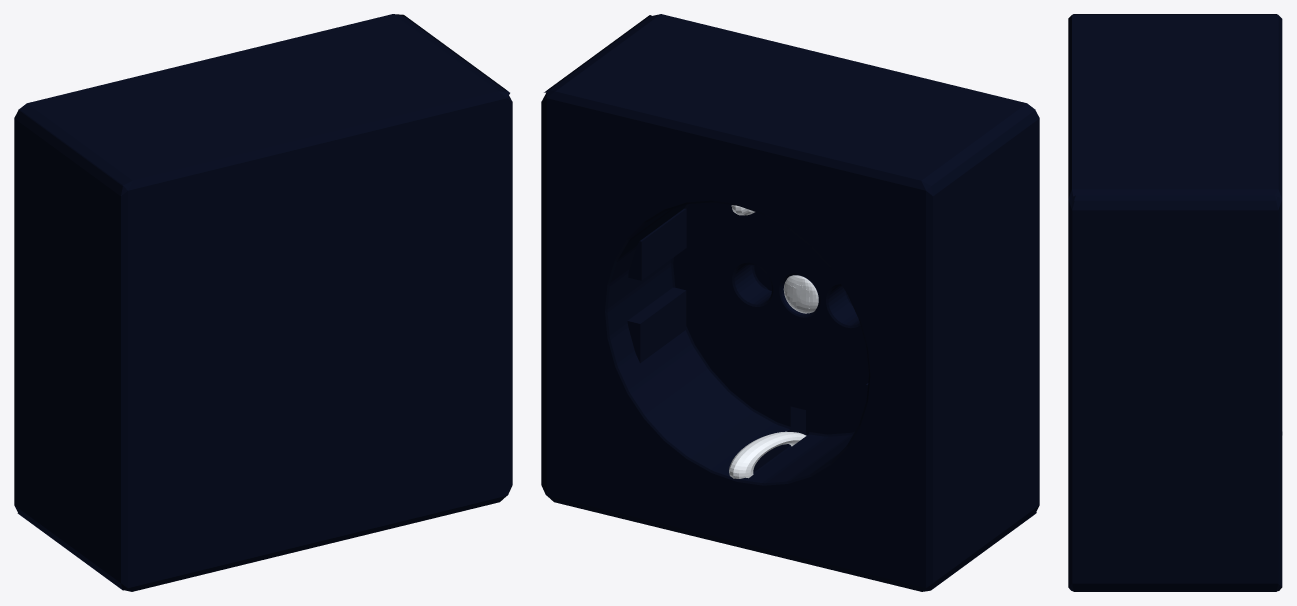
File: powerSocket.glb
3 views of the same model, side by side, from view 1: azimuth 30°, elevation 25°; view 2: azimuth 150°, elevation 25°; view 3: azimuth 270°, elevation 25° (orthographic). The views are drawn at different scales.
Visible parts, largest first — view 1: Cube; view 2: Cube, Cube.002, Cube.004, Torus.001, Sphere; view 3: Cube.
Part boxes in pixels (<box>): Cube: <box>14,14,512,591</box>; Cube: <box>541,14,1039,591</box>; Cube.002: <box>627,287,686,362</box>; Cube.004: <box>628,208,686,280</box>; Torus.001: <box>729,431,806,478</box>; Sphere: <box>783,275,818,313</box>; Cube: <box>1068,14,1282,591</box>.
Size of the model in its own units: 0.2092 by 0.2092 by 0.1013.
